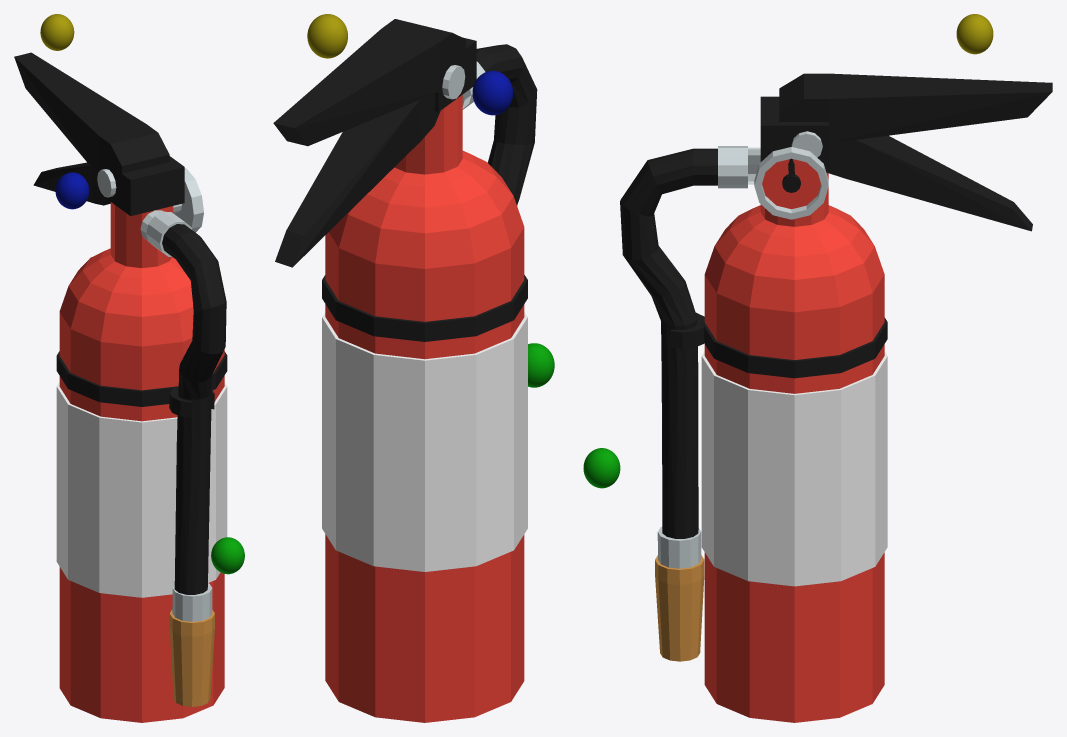
Rendered from finalFire.obj.
The picture shows the model from 3 angles, left to right: view 1: azimuth 30°, elevation 25°; view 2: azimuth 150°, elevation 25°; view 3: azimuth 270°, elevation 25°; orthographic projection. The views are drawn at different scales.
Visible parts, largest first — view 1: model2.001, Sphere.000_Sphere.002, Sphere.002_Sphere.004, Sphere.001; view 2: model2.001, Sphere.001, Sphere.002_Sphere.004, Sphere.000_Sphere.002; view 3: model2.001, Sphere.002_Sphere.004, Sphere.000_Sphere.002.
Boxes of the visible parts, <box> form: model2.001: <box>14,52,227,722</box>; Sphere.000_Sphere.002: <box>211,537,244,574</box>; Sphere.002_Sphere.004: <box>40,14,74,50</box>; Sphere.001: <box>55,172,89,209</box>; model2.001: <box>273,19,537,722</box>; Sphere.001: <box>472,70,513,115</box>; Sphere.002_Sphere.004: <box>307,14,347,58</box>; Sphere.000_Sphere.002: <box>528,343,554,387</box>; model2.001: <box>620,73,1052,722</box>; Sphere.002_Sphere.004: <box>956,14,993,54</box>; Sphere.000_Sphere.002: <box>583,448,620,488</box>.
Bounding box in the file's own units: 0.3075 × 1.19 × 0.7556.
